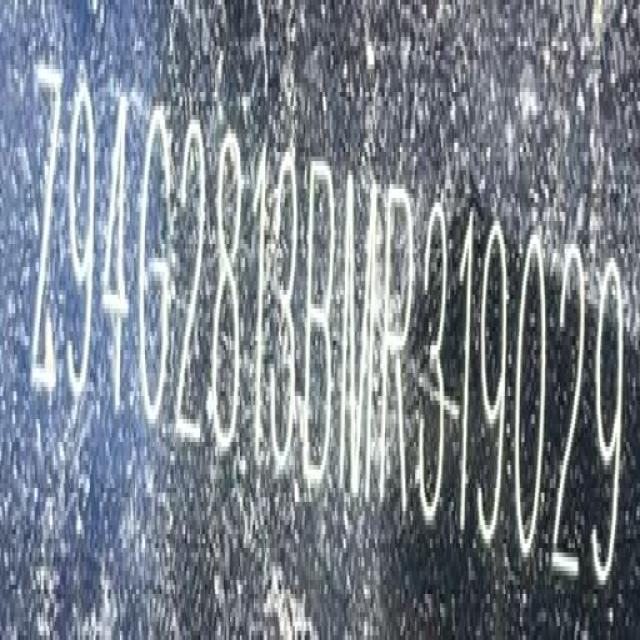0: (516, 226, 550, 570)
1: (248, 137, 266, 474), (458, 203, 473, 544)
2: (552, 238, 585, 580), (179, 111, 208, 455)
3: (419, 197, 451, 536), (274, 152, 300, 484)
4: (103, 86, 134, 426)
8: (209, 133, 245, 467)
9: (478, 205, 508, 550), (68, 76, 97, 408), (595, 262, 624, 589)
B: (302, 156, 336, 492)
G: (138, 100, 175, 441)
M: (338, 171, 373, 509)
R: (383, 187, 416, 519)
Z: (31, 41, 60, 401)
